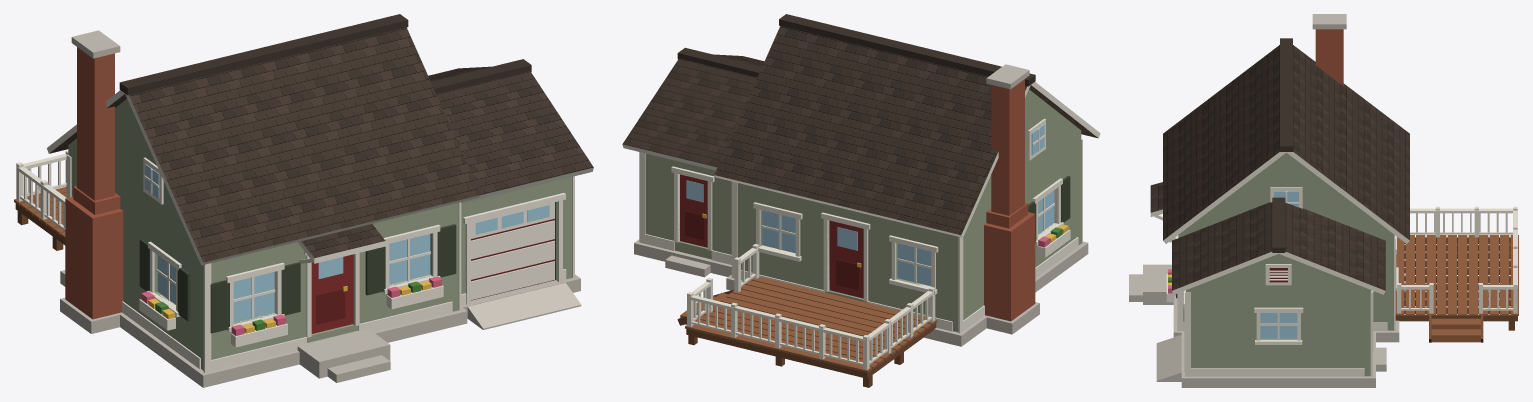
Rendered from base-01-level3.glb.
3 views of the same model, side by side, from view 1: azimuth 30°, elevation 25°; view 2: azimuth 150°, elevation 25°; view 3: azimuth 270°, elevation 25° (orthographic). The views are drawn at different scales.
Visible parts, largest first — view 1: base_house_1_finished, piece_garage, piece_deck; view 2: base_house_1_finished, piece_garage, piece_deck; view 3: base_house_1_finished, piece_garage, piece_deck.
Boxes of the visible parts, left/top/right/bottom form: base_house_1_finished: left=47, top=14, right=480, bottom=387; piece_garage: left=428, top=59, right=593, bottom=329; piece_deck: left=14, top=150, right=68, bottom=250; base_house_1_finished: left=714, top=14, right=1100, bottom=346; piece_garage: left=622, top=47, right=764, bottom=277; piece_deck: left=677, top=244, right=937, bottom=387; base_house_1_finished: left=1129, top=14, right=1409, bottom=342; piece_garage: left=1156, top=197, right=1386, bottom=387; piece_deck: left=1395, top=206, right=1518, bottom=342.
Size of the model in its own units: 12.39 by 7.83 by 12.63.
17 materials, 1 textured.
